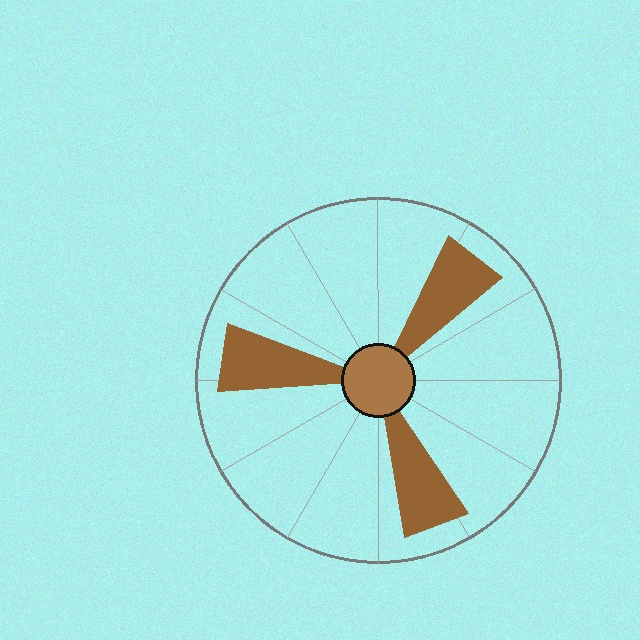fan: (191, 193, 565, 567)
